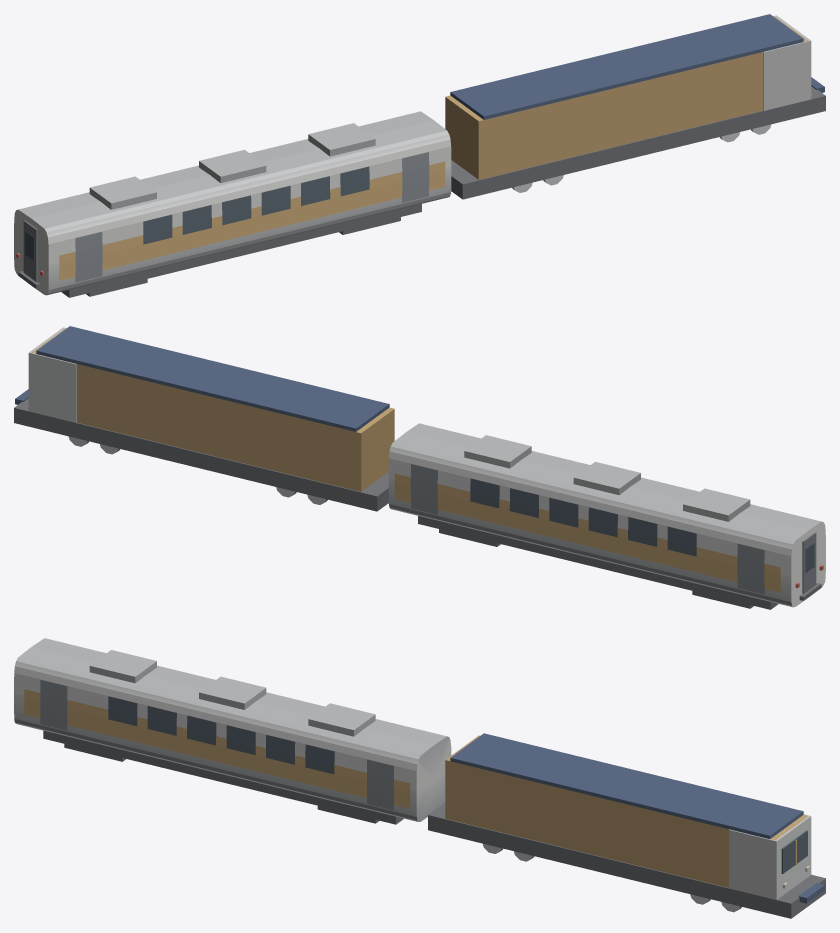
File: 05_TRA_classic_3x2-06.glb
3 views of the same model, one above another, from view 1: azimuth 30°, elevation 25°; view 2: azimuth 150°, elevation 25°; view 3: azimuth 330°, elevation 25° (orthographic).
Size of the model in its own units: 37.99 by 4.06 by 2.94.
